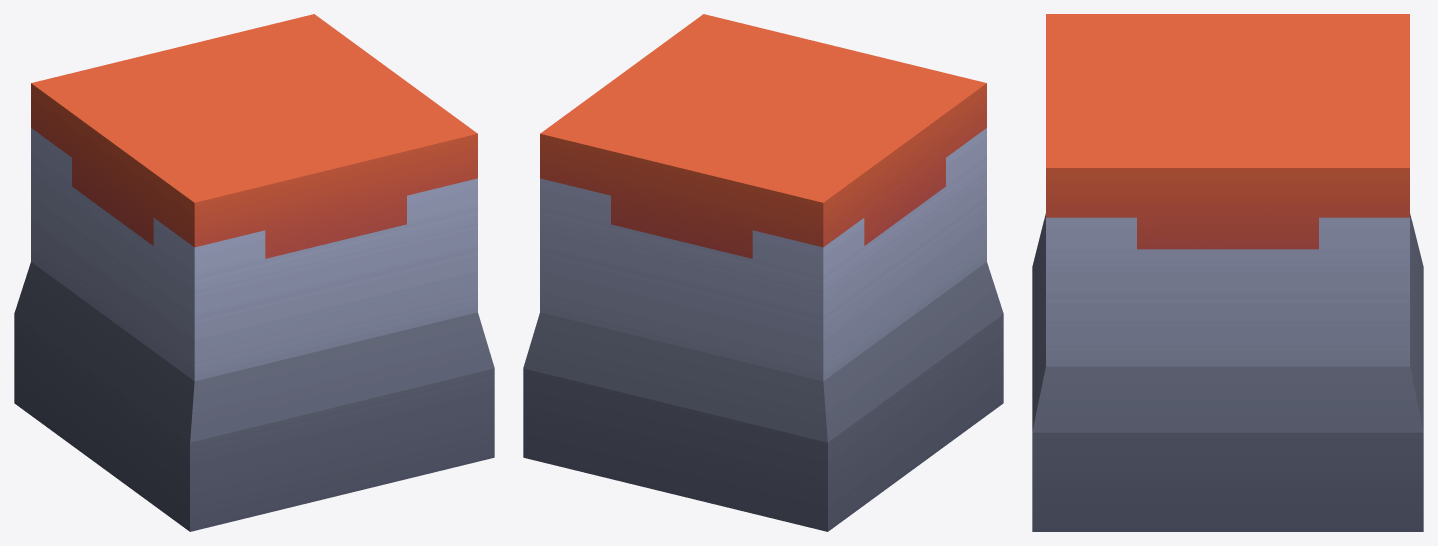
Rendered from tower-square-base-color.fbx.
The picture shows the model from 3 angles, left to right: view 1: azimuth 30°, elevation 25°; view 2: azimuth 150°, elevation 25°; view 3: azimuth 270°, elevation 25°; orthographic projection. The views are drawn at different scales.
Visible parts, largest first — view 1: tower-square-base-color; view 2: tower-square-base-color; view 3: tower-square-base-color.
Part boxes in pixels (box(x1,y1,x2,y2)): tower-square-base-color: box(14, 14, 494, 531); tower-square-base-color: box(523, 14, 1003, 531); tower-square-base-color: box(1032, 14, 1423, 531).
Size of the model in its own units: 1 by 1 by 1.01.
